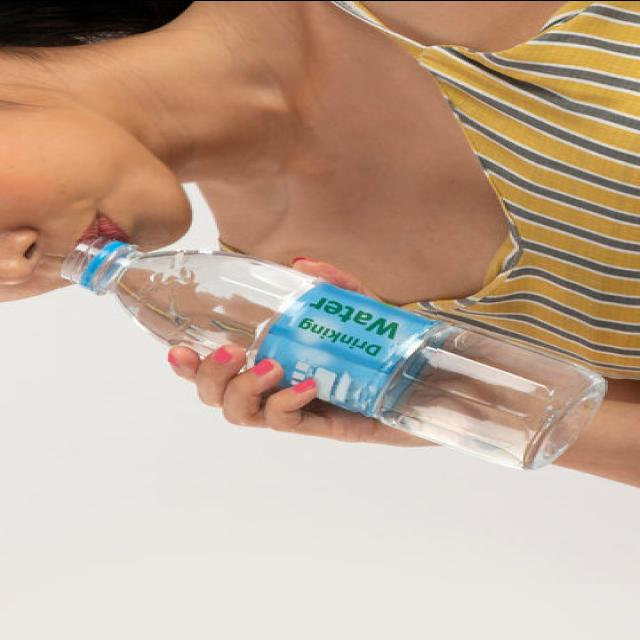bottom: (524, 364, 606, 467)
label: (257, 282, 437, 415)
neck: (62, 237, 319, 360)
